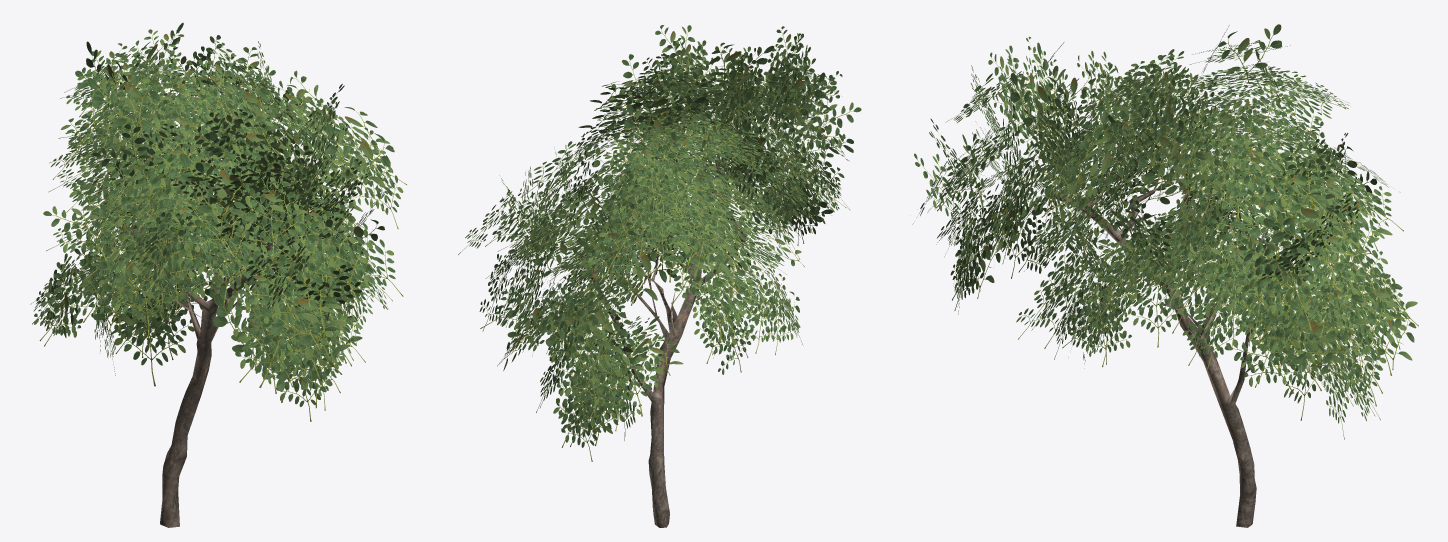
File: broadleaf-mid.glb
3 views of the same model, side by side, from view 1: azimuth 30°, elevation 25°; view 2: azimuth 150°, elevation 25°; view 3: azimuth 270°, elevation 25° (orthographic). The views are drawn at different scales.
Parts seen in each view (by area): view 1: wood; view 2: wood; view 3: wood.
Part boxes in pixels (<box>): wood: <box>30,22,406,527</box>; wood: <box>458,25,861,527</box>; wood: <box>912,24,1418,527</box>.
Size of the model in its own units: 10.72 by 14.89 by 14.68.
Materials: 2 (2 with a texture image).
